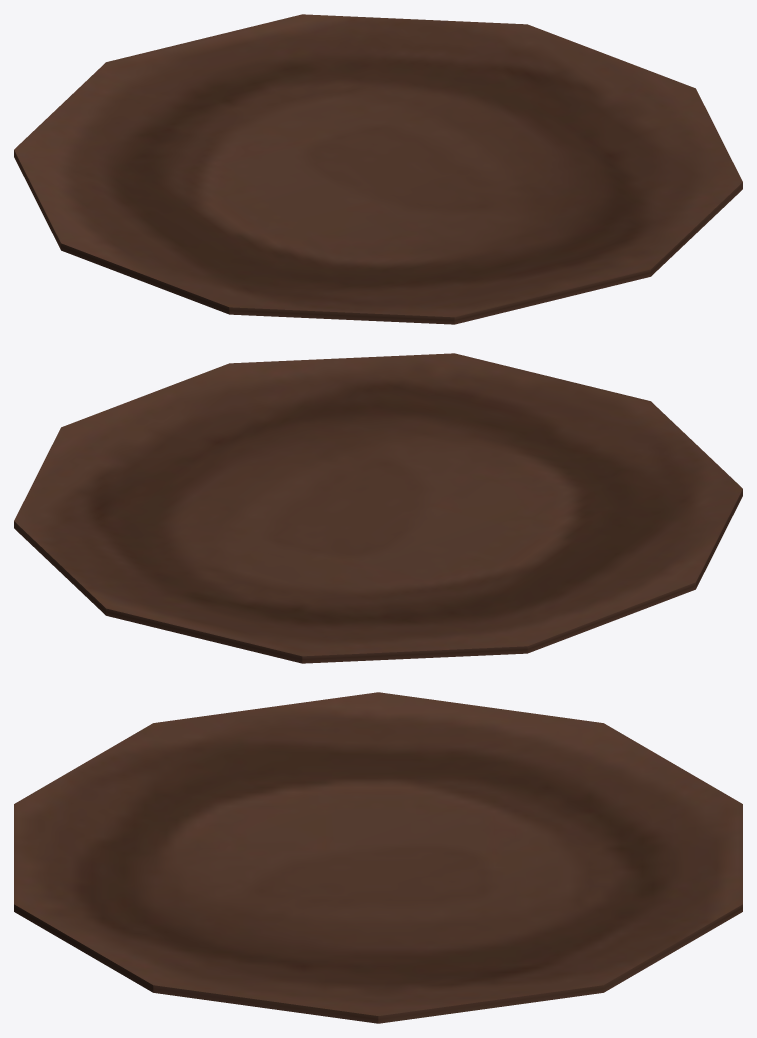
Rendered from ClayPlate01_Geo.fbx.
3 renders of one model, top to bottom at view 1: azimuth 30°, elevation 25°; view 2: azimuth 150°, elevation 25°; view 3: azimuth 270°, elevation 25°, orthographic. The views are drawn at different scales.
Parts seen in each view (by area): view 1: ClayPlate01_Geo; view 2: ClayPlate01_Geo; view 3: ClayPlate01_Geo.
Part boxes in pixels (x1=…): ClayPlate01_Geo: x1=14, y1=14, x2=742, y2=324; ClayPlate01_Geo: x1=14, y1=353, x2=742, y2=663; ClayPlate01_Geo: x1=14, y1=692, x2=742, y2=1023.
Size of the model in its own units: 26.46 by 1.01 by 25.16.
